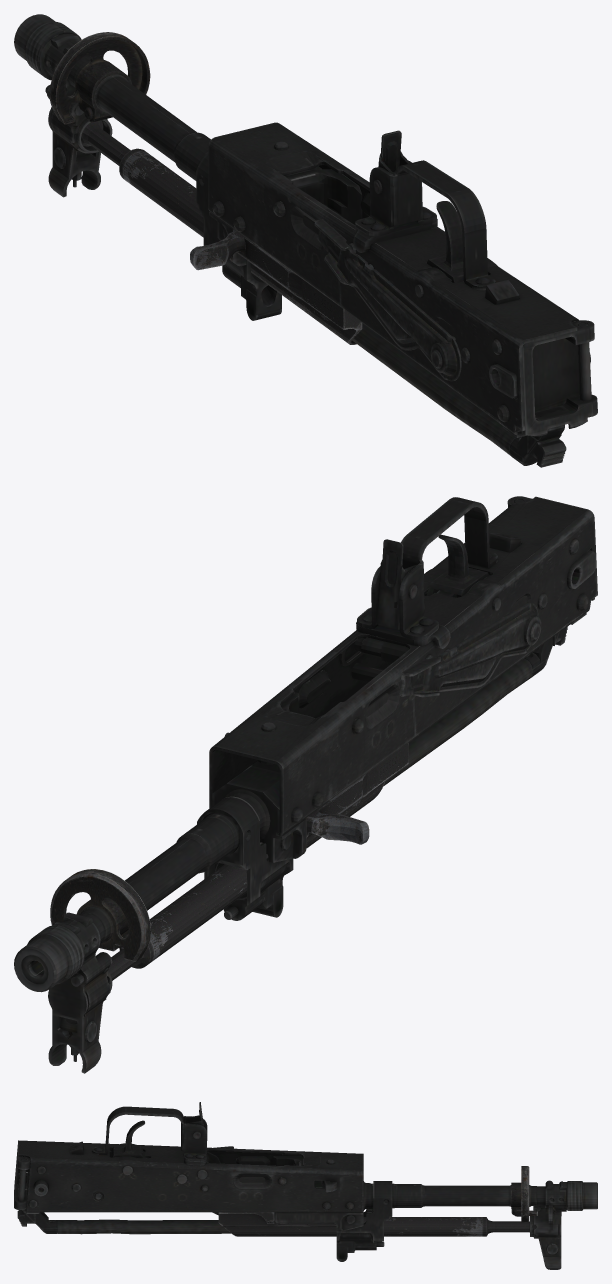
3 renders of one model, top to bottom at view 1: azimuth 30°, elevation 25°; view 2: azimuth 150°, elevation 25°; view 3: azimuth 270°, elevation 25°, orthographic. The views are drawn at different scales.
Visible parts, largest first — view 1: TW_57dc2fa62459775949412633_PZ_Import; view 2: TW_57dc2fa62459775949412633_PZ_Import; view 3: TW_57dc2fa62459775949412633_PZ_Import.
Boxes of the visible parts, x1,y1,x2,y2 form: TW_57dc2fa62459775949412633_PZ_Import: [14, 14, 597, 467]; TW_57dc2fa62459775949412633_PZ_Import: [14, 496, 597, 1073]; TW_57dc2fa62459775949412633_PZ_Import: [14, 1102, 597, 1269].
Size of the model in its own units: 0.038 by 0.2477 by 0.0758.
1 material, 1 textured.
